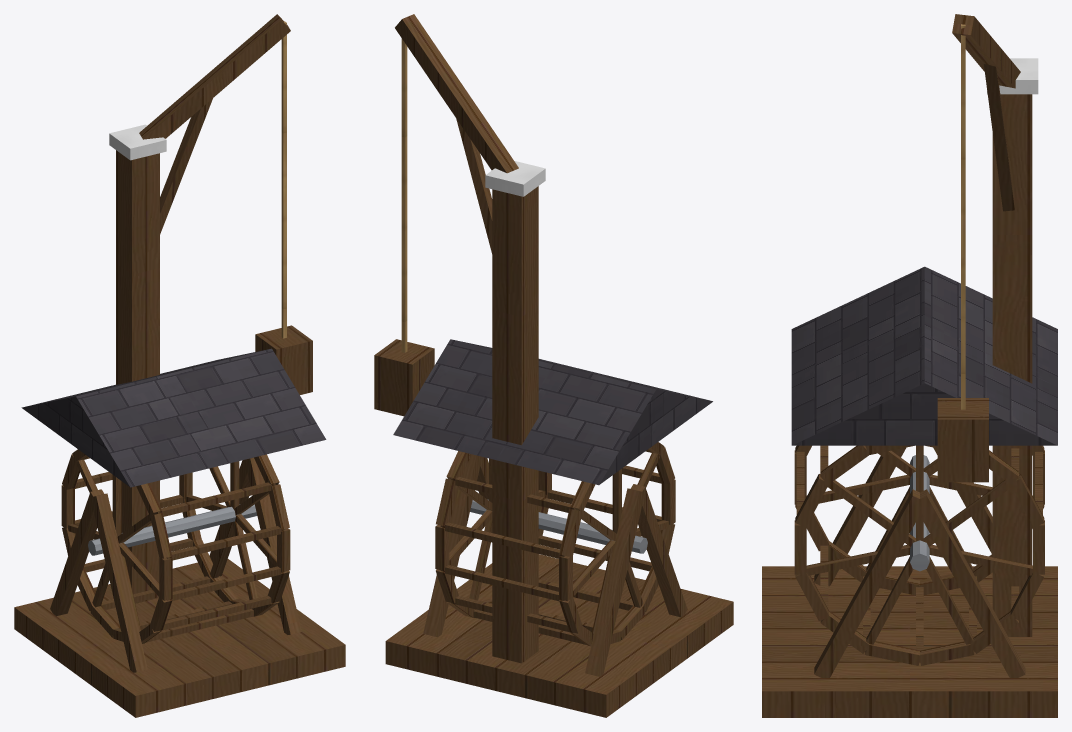
File: harbour.crane.glb
3 renders of one model, left to right at view 1: azimuth 30°, elevation 25°; view 2: azimuth 150°, elevation 25°; view 3: azimuth 270°, elevation 25°, orthographic. The views are drawn at different scales.
Parts seen in each view (by area): view 1: town.harbour.crane, jib; view 2: town.harbour.crane, jib; view 3: town.harbour.crane, jib.
Part boxes in pixels (x1=…): town.harbour.crane: x1=14, y1=124, x2=345, y2=717; jib: x1=139, y1=14, x2=312, y2=394; town.harbour.crane: x1=385, y1=161, x2=733, y2=717; jib: x1=374, y1=14, x2=518, y2=416; town.harbour.crane: x1=762, y1=58, x2=1057, y2=717; jib: x1=937, y1=14, x2=1020, y2=482.
Size of the model in its own units: 1.78 by 3.99 by 1.5.
Materials: 5 (5 with a texture image).
